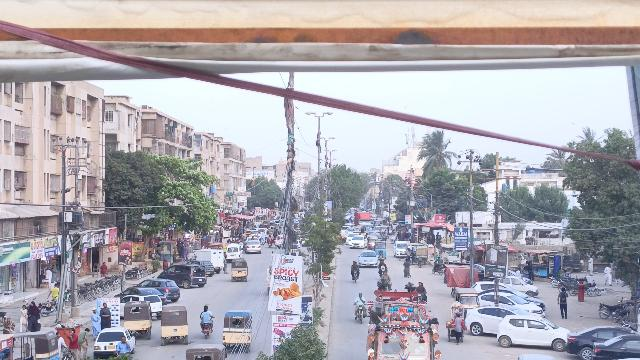Bike: (354, 304, 368, 324), (200, 323, 214, 341), (350, 269, 363, 283), (415, 291, 428, 305), (378, 266, 388, 276)
Bus: (366, 289, 441, 360)
Car: (495, 310, 570, 350), (563, 322, 631, 359), (464, 305, 524, 338), (590, 334, 639, 360), (93, 327, 135, 357), (160, 263, 209, 288)
Cart: (445, 300, 466, 344)
Person: (27, 299, 42, 332), (98, 300, 113, 330), (556, 287, 569, 319), (88, 306, 101, 335), (116, 334, 130, 357), (200, 304, 213, 323), (354, 290, 366, 306), (416, 280, 427, 293), (350, 260, 361, 271), (379, 259, 387, 269)
Rickshaw: (220, 308, 254, 353), (159, 301, 190, 347), (123, 300, 154, 339), (453, 287, 480, 312), (229, 256, 248, 282)
Truck: (196, 248, 224, 269)
